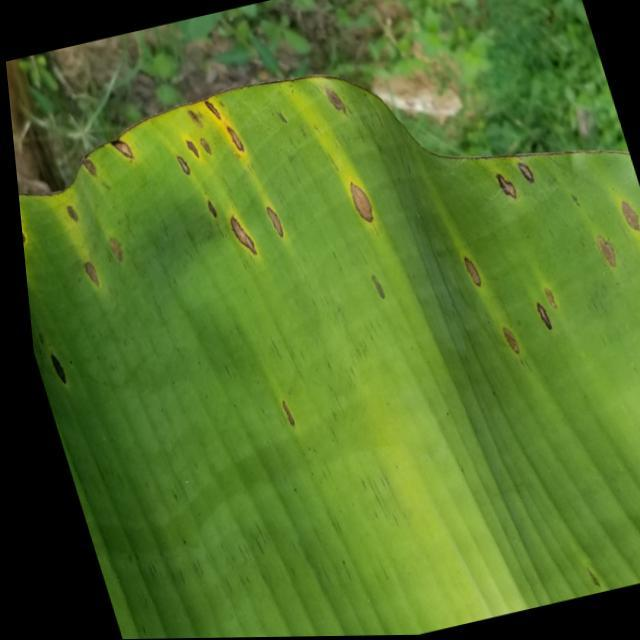Early_rust: (5, 59, 640, 441)
